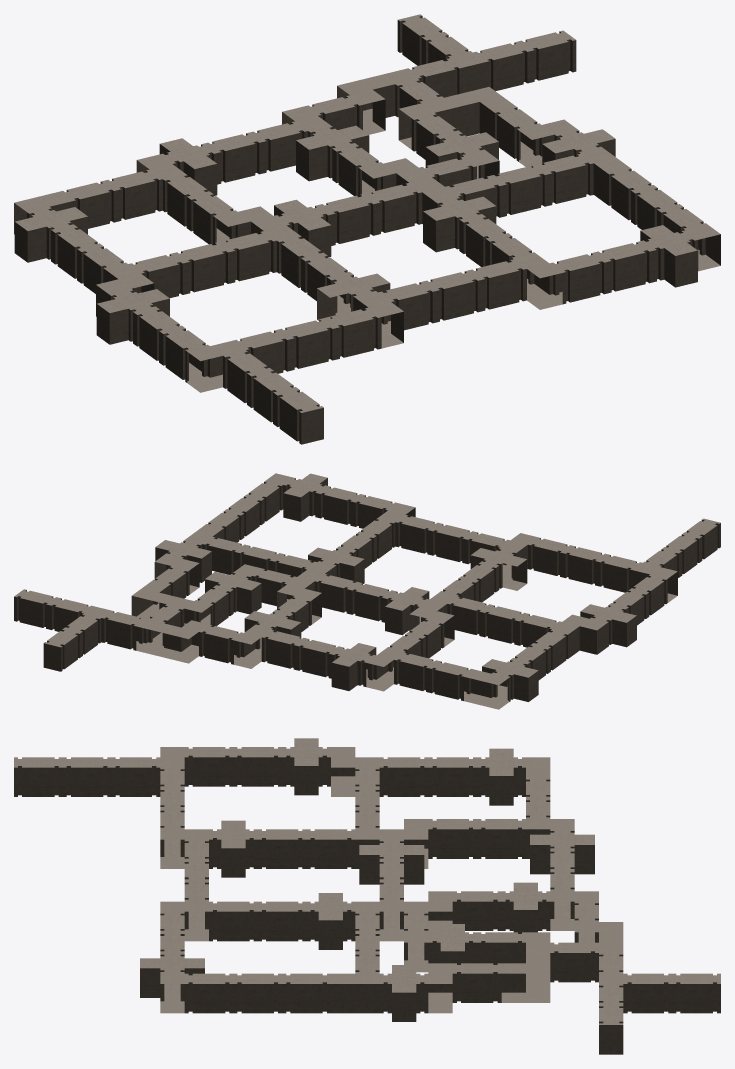
Rendered from DungeonPack.fbx.
3 views of the same model, one above another, from view 1: azimuth 30°, elevation 25°; view 2: azimuth 150°, elevation 25°; view 3: azimuth 270°, elevation 25° (orthographic). The views are drawn at different scales.
Parts seen in each view (by area): view 1: DungeonPack.004, DungeonPack.017, DungeonPack.016, DungeonPack.013, DungeonPack.020, DungeonPack.010, DungeonPack.014, DungeonPack.012, DungeonPack.001, DungeonPack.007, DungeonPack.008, DungeonPack.015 (+14 smaller); view 2: DungeonPack.017, DungeonPack.010, DungeonPack.020, DungeonPack.004, DungeonPack.013, DungeonPack.016, DungeonPack.014, DungeonPack.008, DungeonPack.009, DungeonPack.006, DungeonPack.007, DungeonPack.012 (+14 smaller); view 3: DungeonPack.020, DungeonPack.016, DungeonPack.013, DungeonPack.006, DungeonPack.001, DungeonPack.002, DungeonPack.015, DungeonPack.011, DungeonPack.010, DungeonPack, DungeonPack.004, DungeonPack.014 (+14 smaller).
Boxes of the visible parts, x1=… form: DungeonPack.004: x1=527, y1=224, x2=720, y2=309; DungeonPack.017: x1=337, y1=30, x2=576, y2=123; DungeonPack.016: x1=383, y1=158, x2=549, y2=300; DungeonPack.013: x1=237, y1=206, x2=403, y2=348; DungeonPack.020: x1=541, y1=119, x2=707, y2=258; DungeonPack.010: x1=136, y1=121, x2=308, y2=195; DungeonPack.014: x1=274, y1=183, x2=422, y2=257; DungeonPack.012: x1=378, y1=259, x2=526, y2=333; DungeonPack.001: x1=96, y1=289, x2=209, y2=383; DungeonPack.007: x1=128, y1=231, x2=276, y2=297; DungeonPack.008: x1=233, y1=307, x2=381, y2=373; DungeonPack.015: x1=282, y1=106, x2=395, y2=197; DungeonPack.017: x1=14, y1=589, x2=198, y2=663; DungeonPack.010: x1=261, y1=630, x2=393, y2=691; DungeonPack.020: x1=154, y1=480, x2=282, y2=582; DungeonPack.004: x1=266, y1=473, x2=415, y2=528; DungeonPack.013: x1=409, y1=533, x2=537, y2=632; DungeonPack.016: x1=277, y1=510, x2=404, y2=609; DungeonPack.014: x1=314, y1=574, x2=429, y2=635; DungeonPack.008: x1=528, y1=537, x2=642, y2=592; DungeonPack.009: x1=394, y1=652, x2=508, y2=709; DungeonPack.006: x1=482, y1=629, x2=569, y2=702; DungeonPack.007: x1=447, y1=596, x2=561, y2=647; DungeonPack.012: x1=395, y1=515, x2=509, y2=569; DungeonPack.020: x1=184, y1=965, x2=452, y2=1021; DungeonPack.016: x1=184, y1=893, x2=452, y2=949; DungeonPack.013: x1=160, y1=820, x2=428, y2=877; DungeonPack.006: x1=379, y1=748, x2=525, y2=805; DungeonPack.001: x1=184, y1=738, x2=330, y2=795; DungeonPack.002: x1=14, y1=757, x2=160, y2=796; DungeonPack.015: x1=428, y1=882, x2=598, y2=933; DungeonPack.011: x1=404, y1=819, x2=550, y2=858; DungeonPack.010: x1=530, y1=819, x2=594, y2=920; DungeonPack: x1=623, y1=973, x2=720, y2=1013; DungeonPack.004: x1=140, y1=901, x2=204, y2=1013; DungeonPack.014: x1=359, y1=839, x2=424, y2=930.
Size of the model in its own units: 16700 by 800 by 17400.
